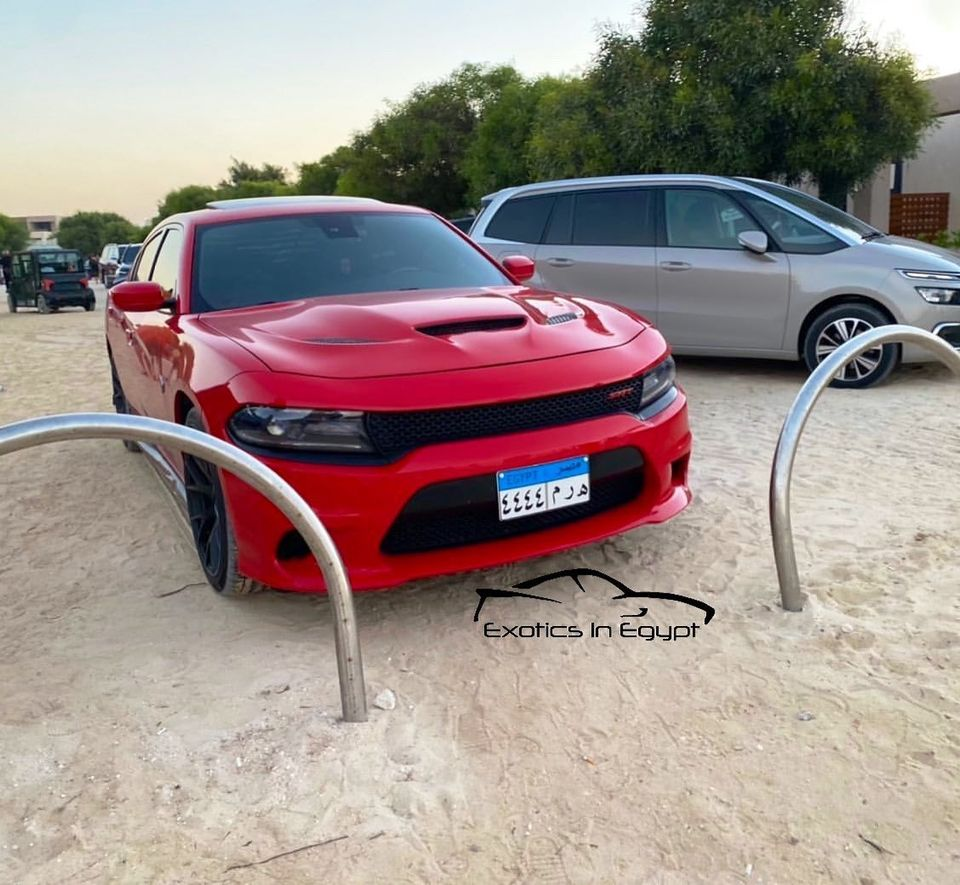carpl: (498, 457, 601, 522)
